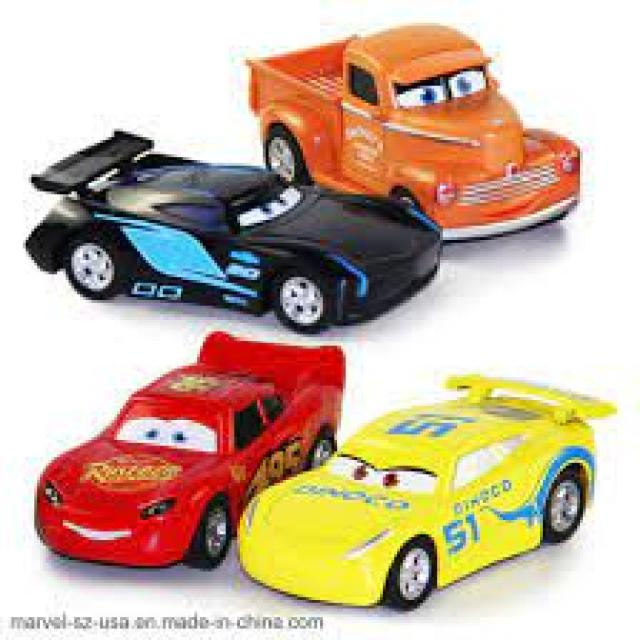Car: (234, 372, 617, 612), (23, 129, 443, 334), (31, 328, 346, 568), (243, 20, 580, 240)
